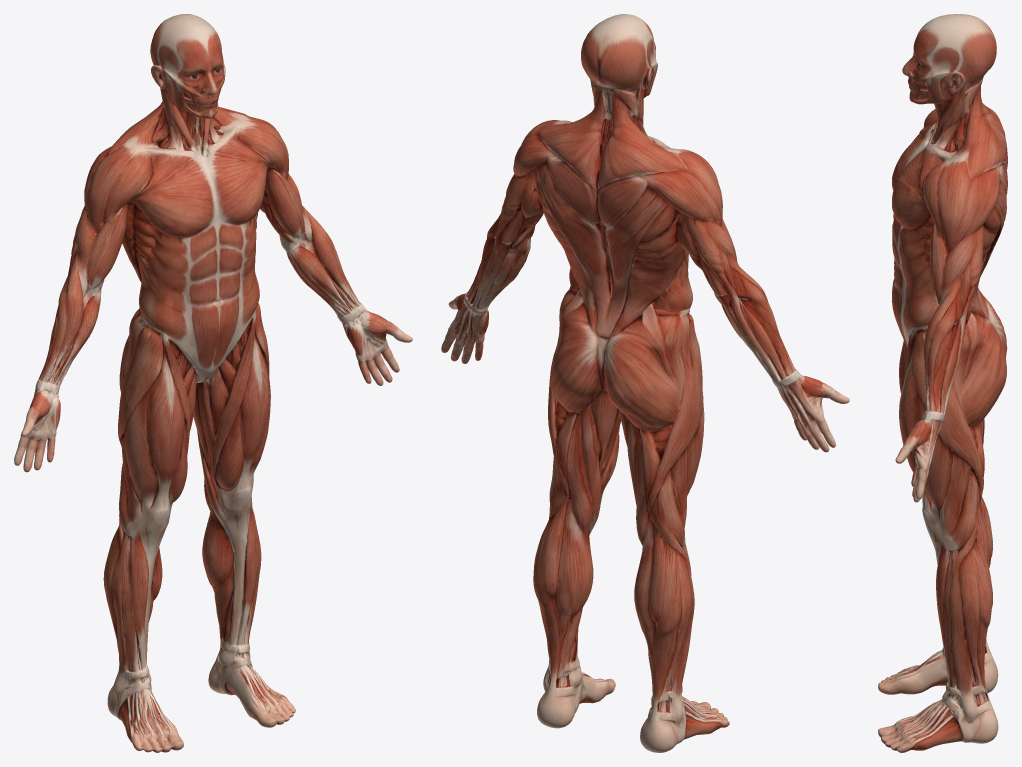
File: cuerpo.glb
3 renders of one model, left to right at view 1: azimuth 30°, elevation 25°; view 2: azimuth 150°, elevation 25°; view 3: azimuth 270°, elevation 25°, orthographic. The views are drawn at different scales.
Parts seen in each view (by area): view 1: human-muscles; view 2: human-muscles; view 3: human-muscles.
Boxes of the visible parts, box(x1,y1,x2,y2) form: human-muscles: box(14, 14, 412, 752); human-muscles: box(441, 14, 849, 752); human-muscles: box(878, 14, 1007, 752).
Bounding box in the file's own units: 1.06 × 1.8 × 0.3027.
Materials: 1 (1 with a texture image).
